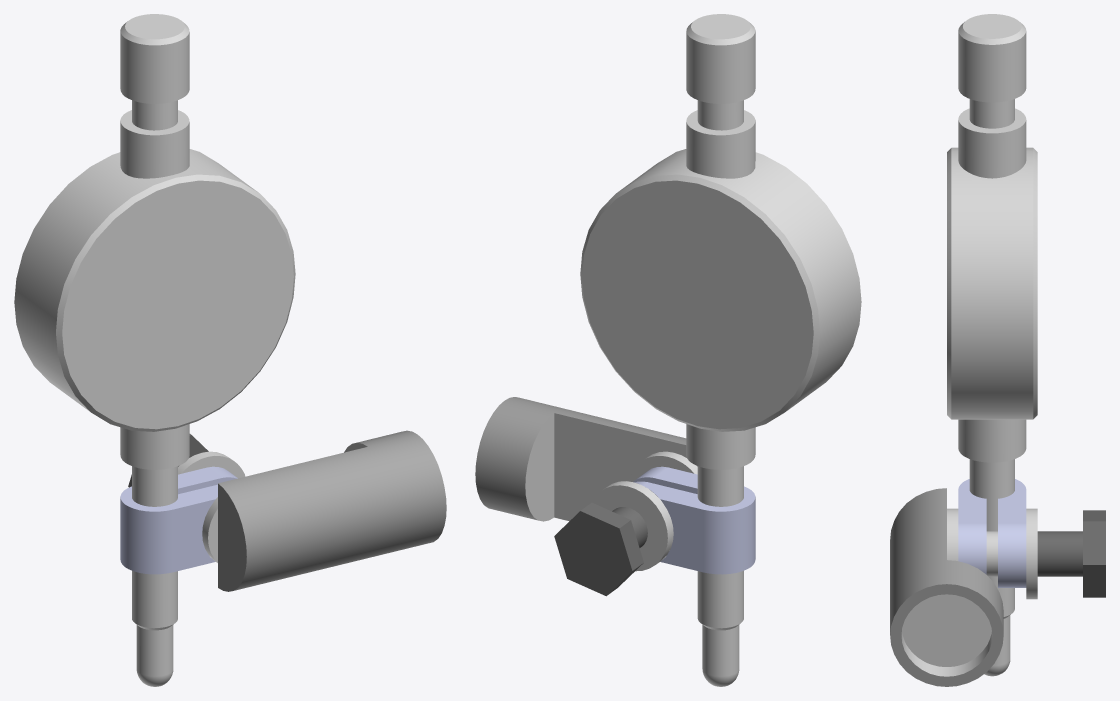
Rendered from Rotator2.obj.
3 views of the same model, side by side, from view 1: azimuth 30°, elevation 25°; view 2: azimuth 150°, elevation 25°; view 3: azimuth 270°, elevation 25° (orthographic).
Visible parts, largest first — view 1: 1_DC_Shell, NONE_DC_Shell; view 2: 1_DC_Shell, NONE_DC_Shell; view 3: 1_DC_Shell, NONE_DC_Shell.
Boxes of the visible parts, x1,y1,x2,y2 form: 1_DC_Shell: [14, 14, 295, 686]; NONE_DC_Shell: [120, 430, 446, 591]; 1_DC_Shell: [580, 14, 861, 686]; NONE_DC_Shell: [475, 397, 755, 596]; 1_DC_Shell: [947, 14, 1037, 676]; NONE_DC_Shell: [890, 479, 1105, 686].
Size of the model in its own units: 18 by 31.5 by 9.5.
